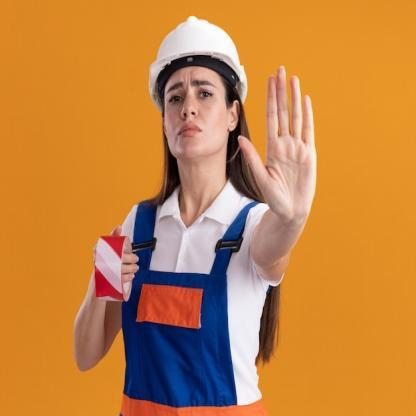stop: (232, 62, 326, 226)
